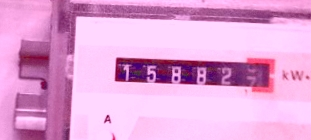1: (120, 61, 130, 80)
2: (219, 64, 232, 85)
5: (142, 62, 157, 82)
7: (243, 72, 256, 85)
8: (193, 63, 207, 85), (169, 63, 182, 83)
screen: (108, 48, 279, 96)
